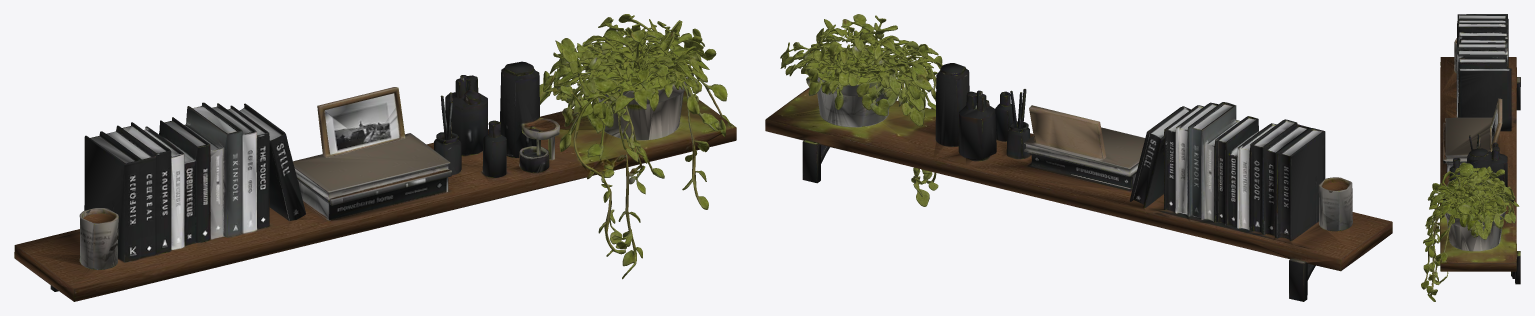
File: shelf.glb
3 renders of one model, left to right at view 1: azimuth 30°, elevation 25°; view 2: azimuth 150°, elevation 25°; view 3: azimuth 270°, elevation 25°, orthographic. The views are drawn at different scales.
Size of the model in its own units: 1.88 by 0.5998 by 0.3788.
1 material, 1 textured.
